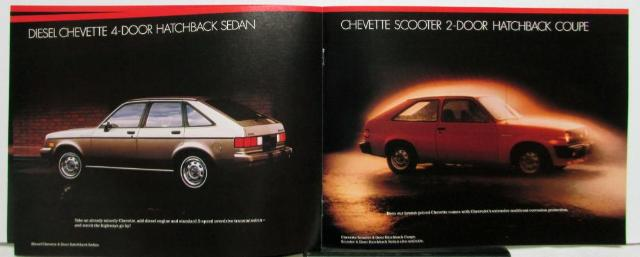chevette-1983: (40, 97, 292, 188), (358, 94, 595, 173)
